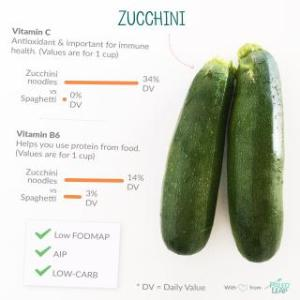zucchini: (159, 44, 237, 260), (225, 44, 293, 260)
